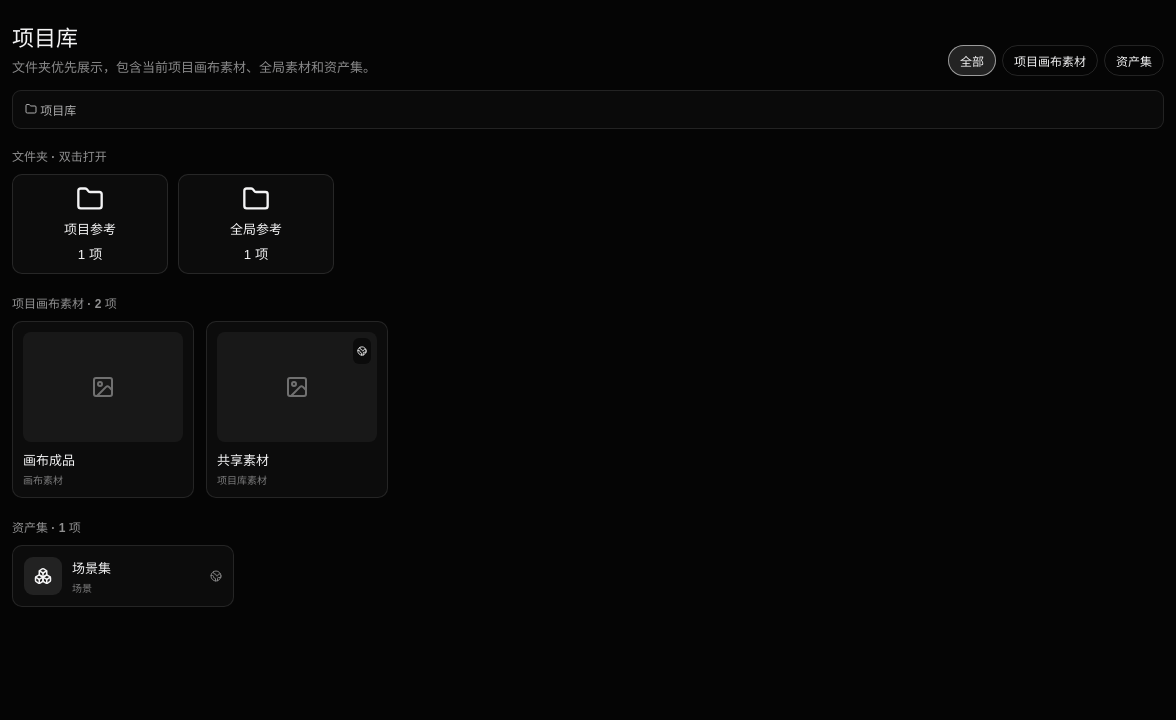
Test: AssetLibrary › shows one project library containing folders, canvas assets, global assets, and asset sets
The image size is (1176, 720).
Expected: the text "项目参考" is shown, x1=64 y1=219 x2=116 y2=238
Expected: the text "全局参考" is shown, x1=230 y1=219 x2=282 y2=238
Click the button "项目画布素材" at (1050, 60), box x1=1002 y1=45 x2=1098 y2=76
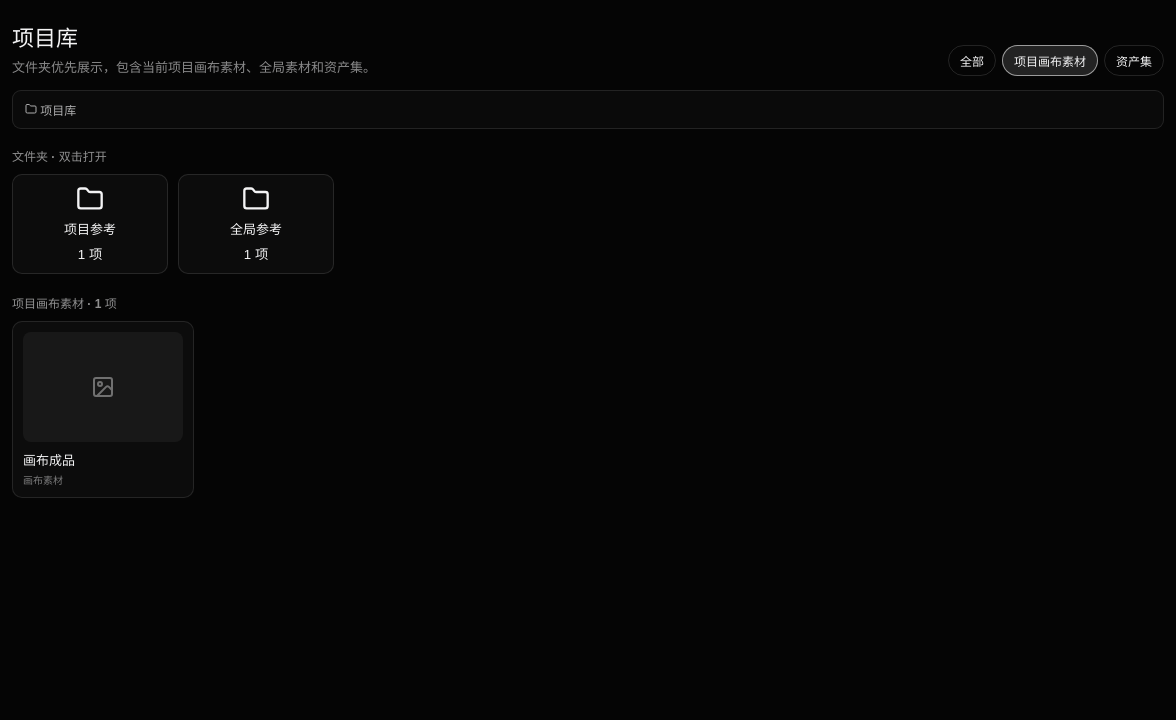
Expected: the text "共享素材" is gone
Expected: the text "场景集" is gone
Click the button "资产集" at (1134, 60), box x1=1104 y1=45 x2=1164 y2=76
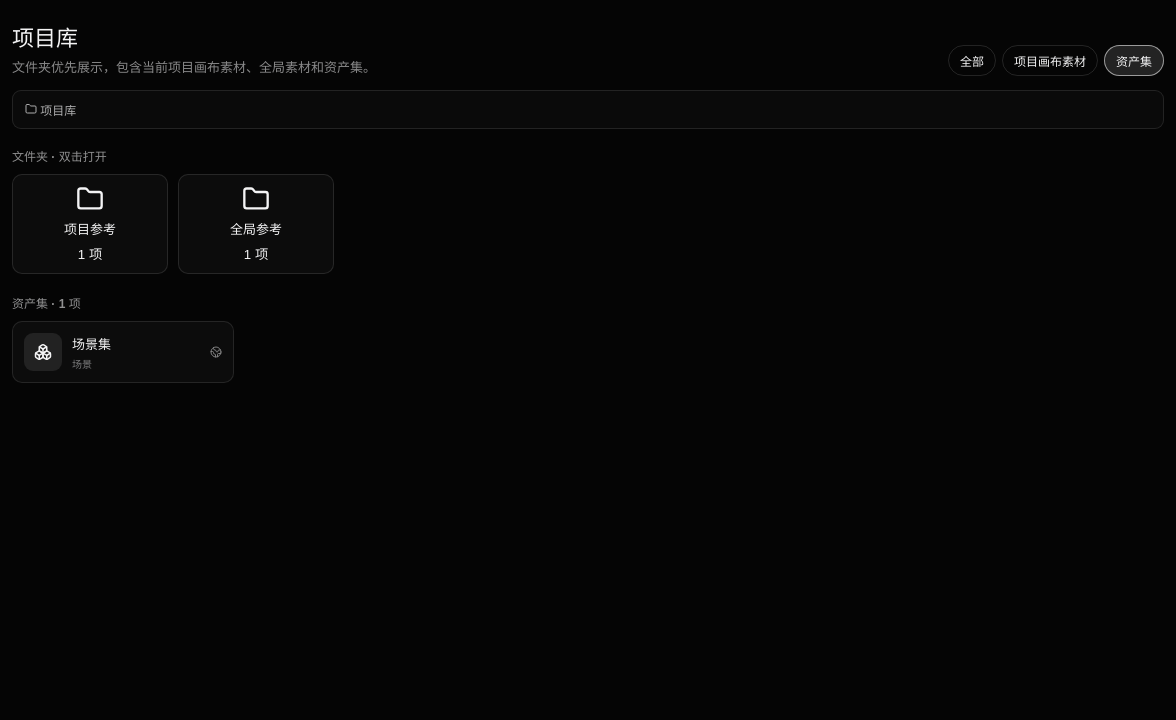
Expected: the button titled "双击打开文件夹" is shown, x1=12 y1=174 x2=168 y2=274
Expected: the text "场景集" is shown, x1=72 y1=336 x2=111 y2=352
Expected: the text "画布成品" is gone
